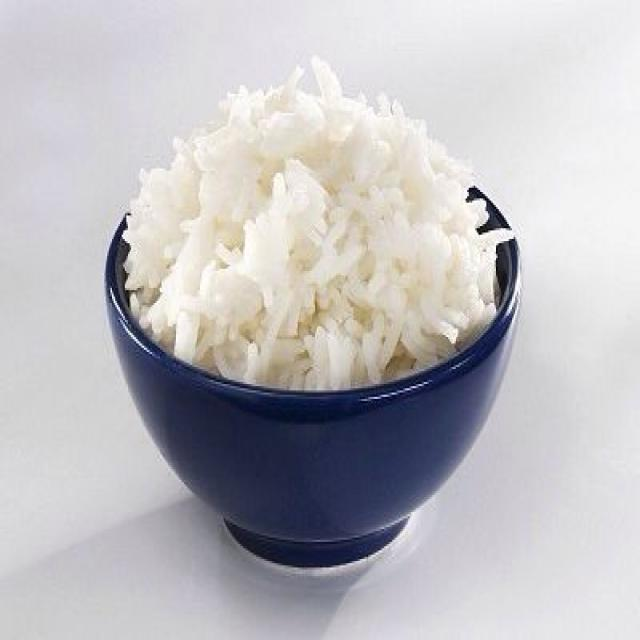rice: (125, 60, 510, 390)
